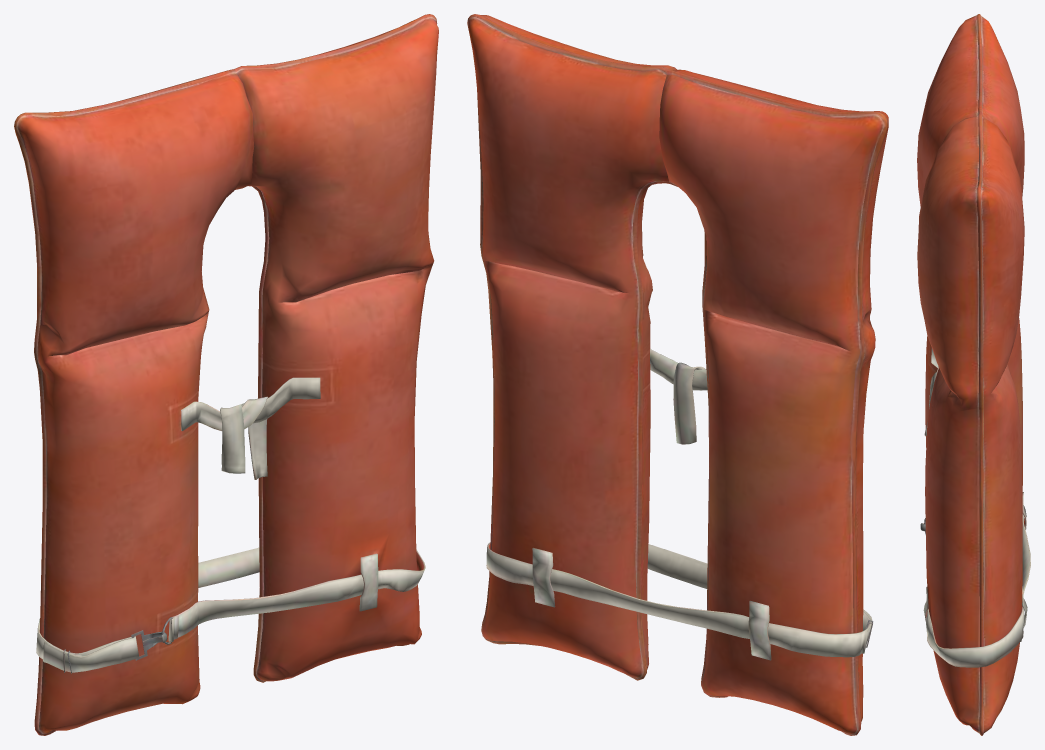
Rendered from life_jacket.glb.
3 renders of one model, left to right at view 1: azimuth 30°, elevation 25°; view 2: azimuth 150°, elevation 25°; view 3: azimuth 270°, elevation 25°, orthographic. The views are drawn at different scales.
Visible parts, largest first — view 1: life_jacket; view 2: life_jacket; view 3: life_jacket.
Boxes of the visible parts, box(x1,y1,x2,y2) form: life_jacket: box(14, 14, 438, 735); life_jacket: box(467, 14, 888, 735); life_jacket: box(917, 14, 1030, 735).
Size of the model in its own units: 0.6956 by 0.9923 by 0.184.
Materials: 1 (1 with a texture image).
